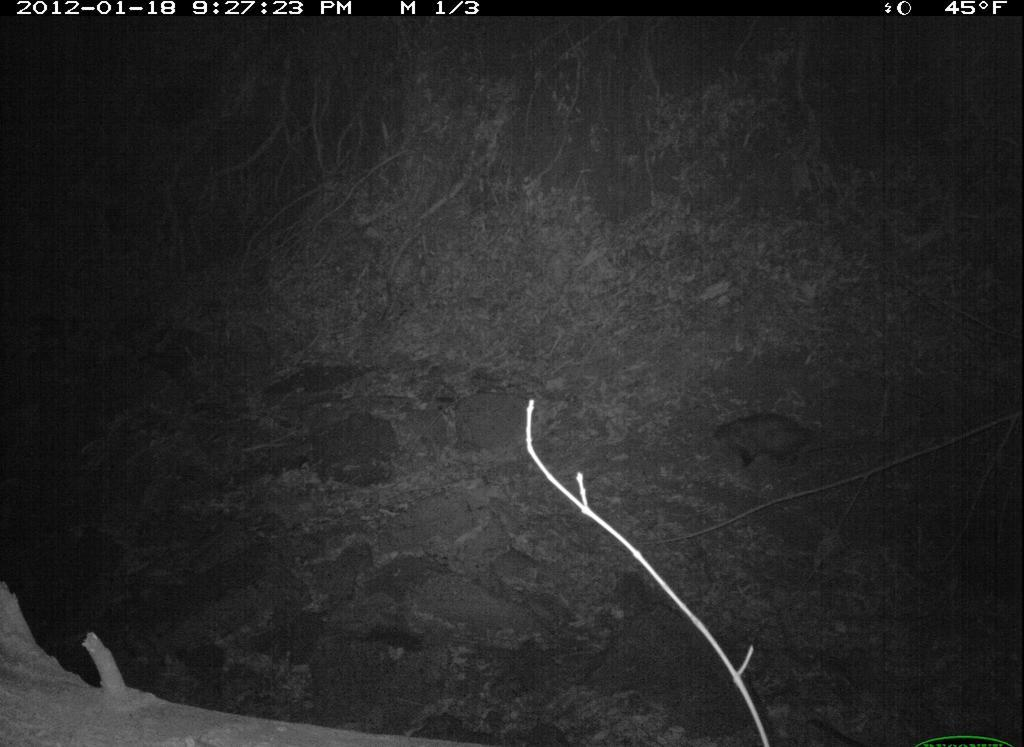opossum: (699, 405, 838, 478)
